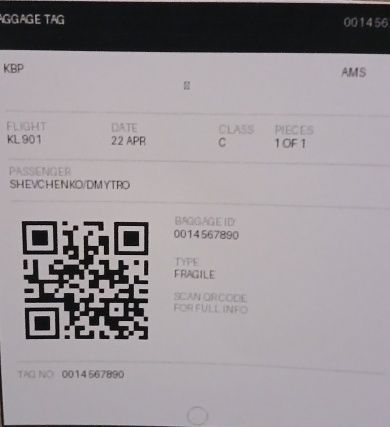LPN_bottom: (57, 367, 128, 382)
LPN_right: (170, 227, 240, 243)
